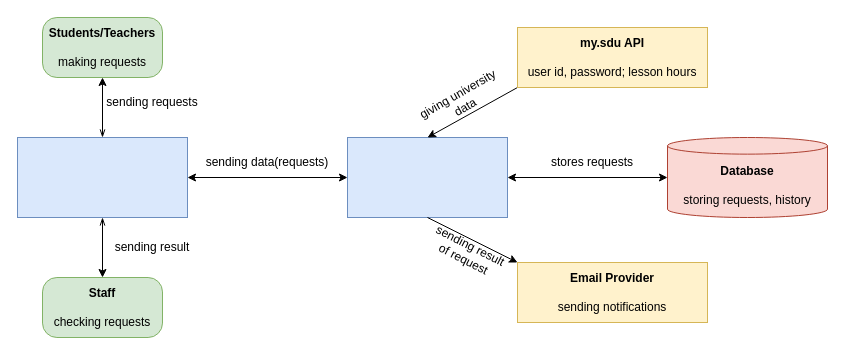
This 845x355 diagram has some shape labels left out. The shapes that lost their labels are listed below. From the top down, each one's centre as x and y in pixels, then its label:
At point (102, 177): "Web Application room search, booking request".
At point (427, 177): "Booking API room availability,booking".
